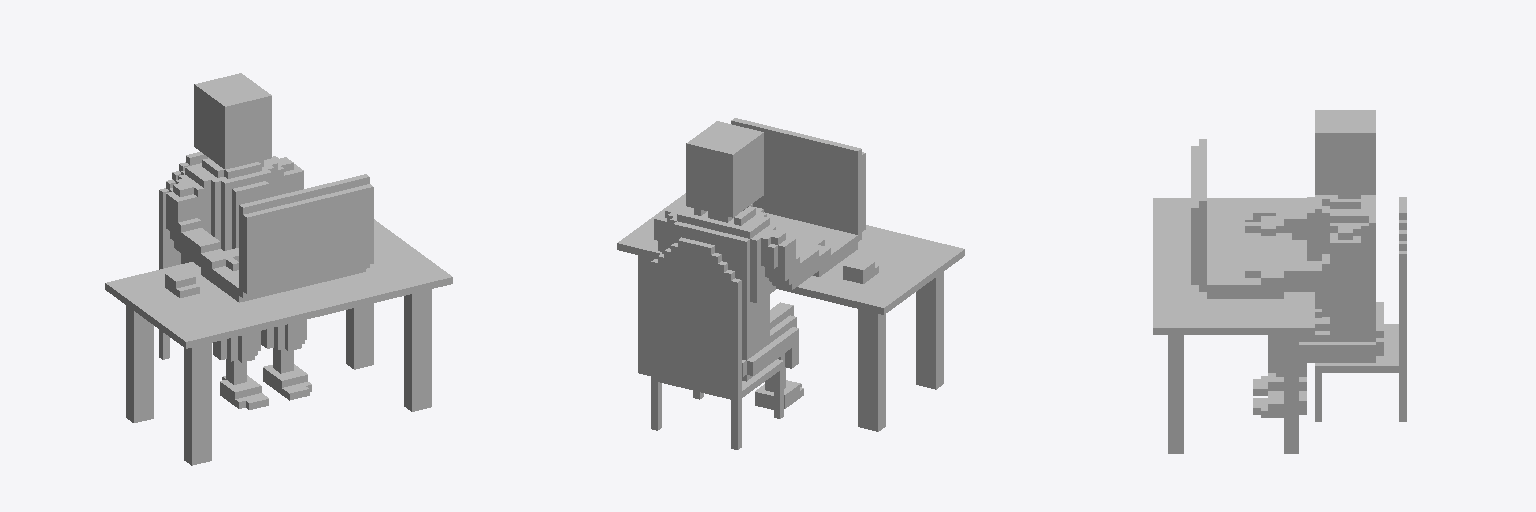
The model's file is developer.obj.
3 views of the same model, side by side, from view 1: azimuth 30°, elevation 25°; view 2: azimuth 150°, elevation 25°; view 3: azimuth 270°, elevation 25° (orthographic).
Visible parts, largest first — view 1: object 1; view 2: object 1; view 3: object 1.
Boxes of the visible parts, x1=… form: object 1: x1=105, y1=73, x2=452, y2=465; object 1: x1=617, y1=118, x2=964, y2=449; object 1: x1=1153, y1=110, x2=1406, y2=453.
Size of the model in its own units: 4 by 4 by 3.3.